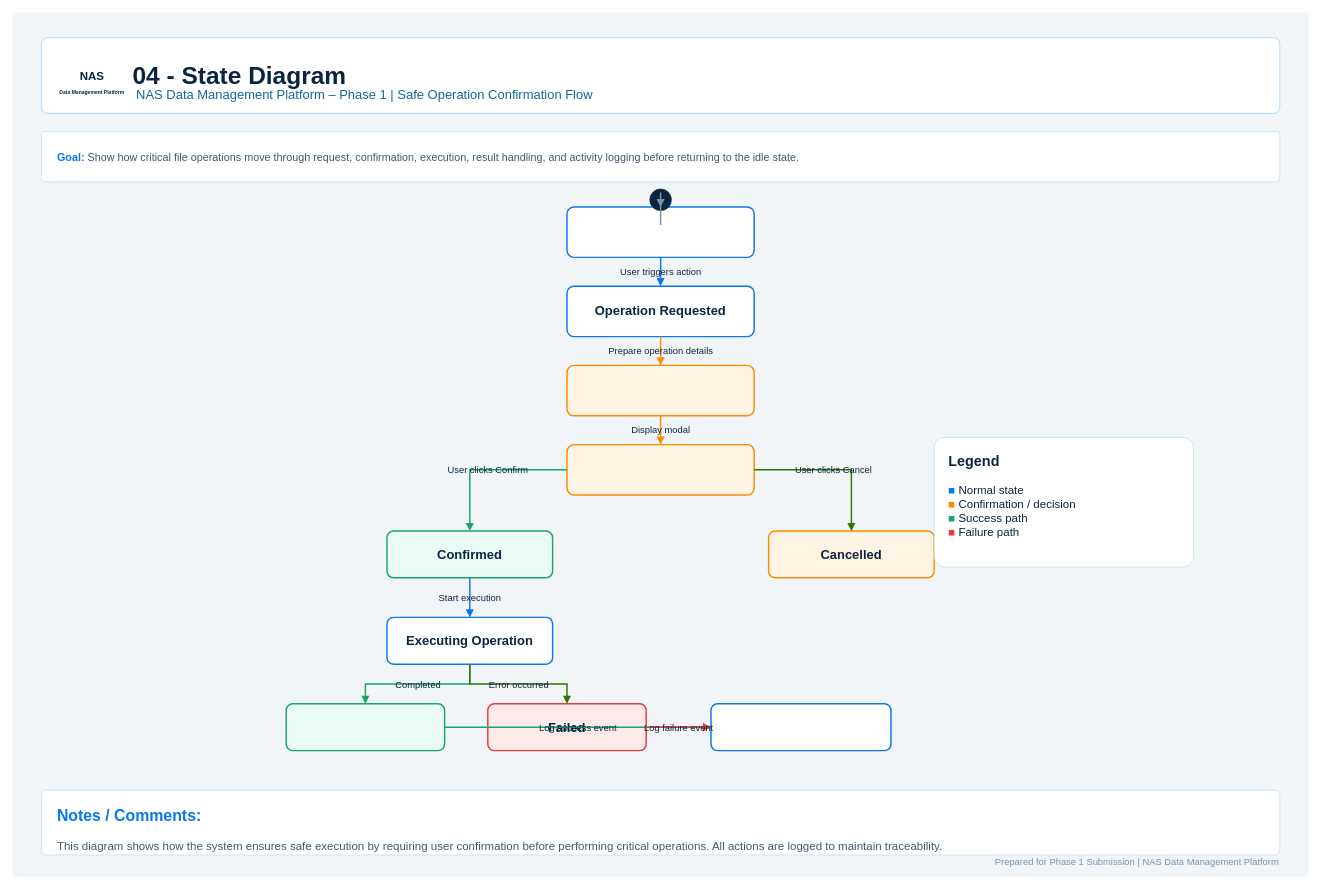
The diagram is 1320 pixels wide and 888 high, and some of its shapes have lost their labels. The centre of each missing label's shape, as x and y in pixels:
Activity Logged: point 800,727
Idle: point 660,232
Show Confirmation Modal: point 660,390
Success: point 365,727
Waiting User Action: point 660,469
